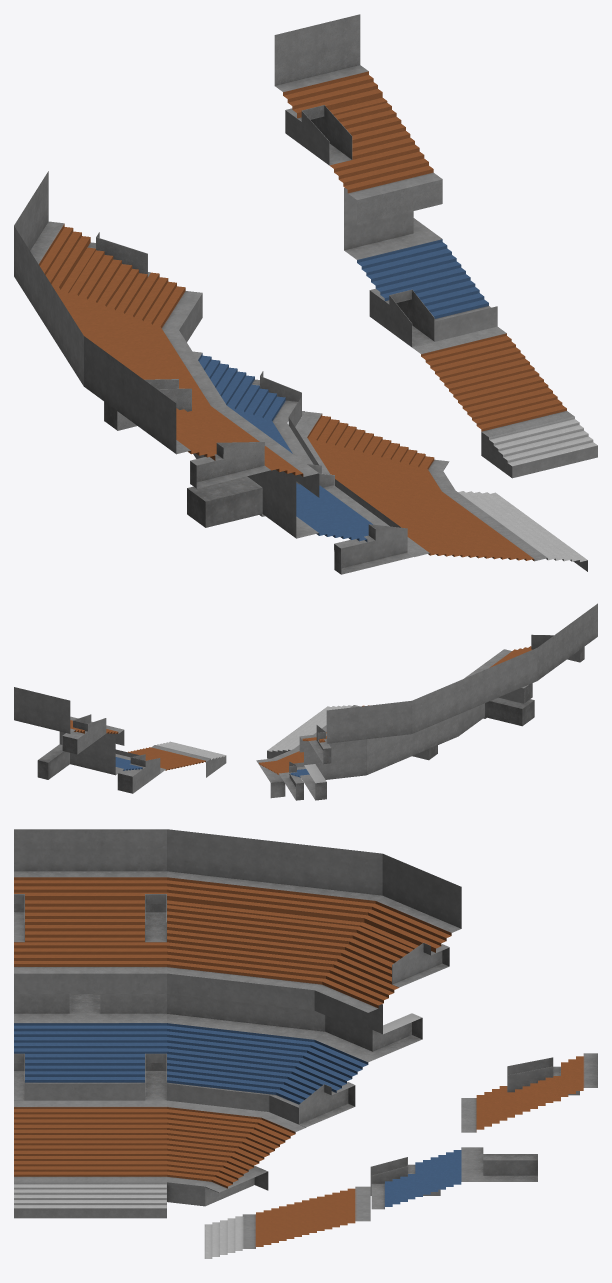
File: stairs.FBX
3 views of the same model, one above another, from view 1: azimuth 30°, elevation 25°; view 2: azimuth 150°, elevation 25°; view 3: azimuth 270°, elevation 25° (orthographic). The views are drawn at different scales.
Visible parts, largest first — view 1: 3rd_floor_Highpoly_corner018, 3rd_floor_Highpoly_front009, 1st_floor_Highpoly_front009, 3rd_floor_Highpoly_side010, 2nd_floor_Highpoly_front009, 2nd_floor_Highpoly_side010, 1st_floor_Highpoly_side010, 1st_floor_Highpoly_corner019, 2nd_floor_Highpoly_corner019; view 2: 3rd_floor_Highpoly_corner018, 2nd_floor_Highpoly_corner019, 2nd_floor_Highpoly_front009, 3rd_floor_Highpoly_front009, 3rd_floor_Highpoly_side010, 2nd_floor_Highpoly_side010, 1st_floor_Highpoly_front009, 1st_floor_Highpoly_corner019, 1st_floor_Highpoly_side010; view 3: 3rd_floor_Highpoly_corner018, 3rd_floor_Highpoly_side010, 2nd_floor_Highpoly_corner019, 1st_floor_Highpoly_side010, 2nd_floor_Highpoly_side010, 1st_floor_Highpoly_corner019, 2nd_floor_Highpoly_front009, 1st_floor_Highpoly_front009, 3rd_floor_Highpoly_front009.
Part boxes in pixels (x1,y1,x2,y2): 3rd_floor_Highpoly_corner018: [14, 171, 226, 408]; 3rd_floor_Highpoly_front009: [274, 14, 442, 224]; 1st_floor_Highpoly_front009: [412, 326, 597, 478]; 3rd_floor_Highpoly_side010: [84, 336, 319, 497]; 2nd_floor_Highpoly_front009: [344, 188, 497, 347]; 2nd_floor_Highpoly_side010: [187, 455, 413, 574]; 1st_floor_Highpoly_side010: [345, 486, 587, 571]; 1st_floor_Highpoly_corner019: [295, 411, 455, 492]; 2nd_floor_Highpoly_corner019: [193, 351, 318, 465]; 3rd_floor_Highpoly_corner018: [299, 648, 537, 764]; 2nd_floor_Highpoly_corner019: [282, 715, 458, 800]; 2nd_floor_Highpoly_front009: [37, 731, 160, 793]; 3rd_floor_Highpoly_front009: [14, 687, 124, 754]; 3rd_floor_Highpoly_side010: [464, 603, 597, 703]; 2nd_floor_Highpoly_side010: [412, 697, 534, 760]; 1st_floor_Highpoly_front009: [128, 741, 226, 777]; 1st_floor_Highpoly_corner019: [256, 749, 303, 798]; 1st_floor_Highpoly_side010: [267, 705, 369, 758]; 3rd_floor_Highpoly_corner018: [167, 829, 461, 1032]; 3rd_floor_Highpoly_side010: [14, 829, 166, 993]; 2nd_floor_Highpoly_corner019: [167, 994, 422, 1127]; 1st_floor_Highpoly_side010: [14, 1100, 166, 1218]; 2nd_floor_Highpoly_side010: [14, 994, 166, 1100]; 1st_floor_Highpoly_corner019: [167, 1100, 305, 1206]; 2nd_floor_Highpoly_front009: [370, 1147, 537, 1209]; 1st_floor_Highpoly_front009: [204, 1186, 370, 1258]; 3rd_floor_Highpoly_front009: [461, 1053, 597, 1132].
Bounding box in the file's own units: 4694 × 2249 × 5344.
